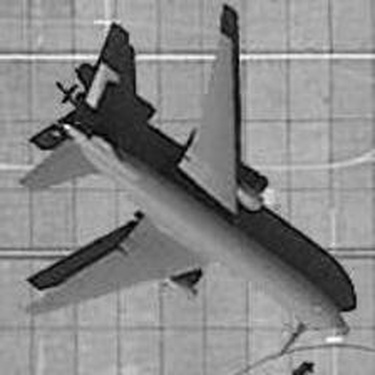airplane: (12, 4, 357, 354)
